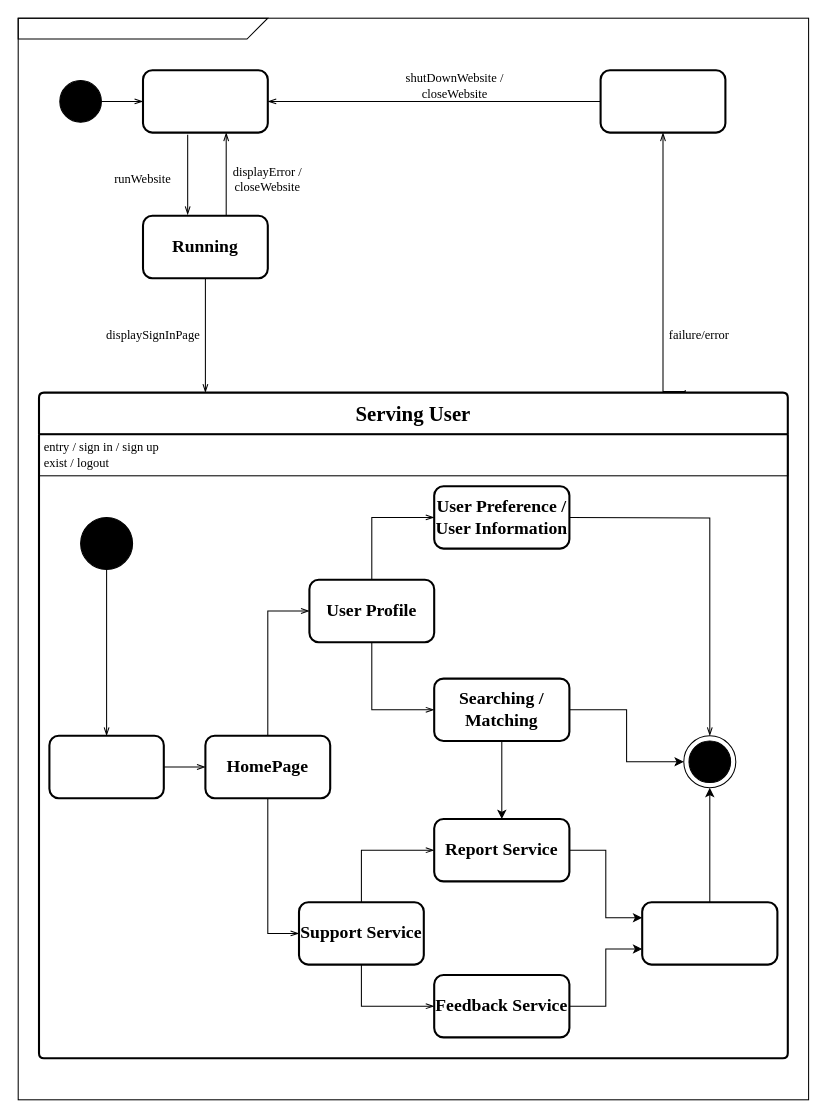
The diagram is 827 pixels wide and 1118 high, and some of its shapes have lost their labels. Here are the shapes that lost their labels. From the top down, the centre of each, then its label:
point (142, 28): state website/app Find My Roomate
point (204, 101): Not Running
point (662, 101): Out of Service
point (106, 766): User Authentication
point (709, 933): Email Service
